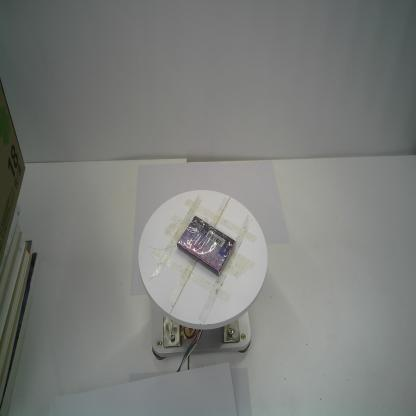Gum: (176, 214, 236, 276)
